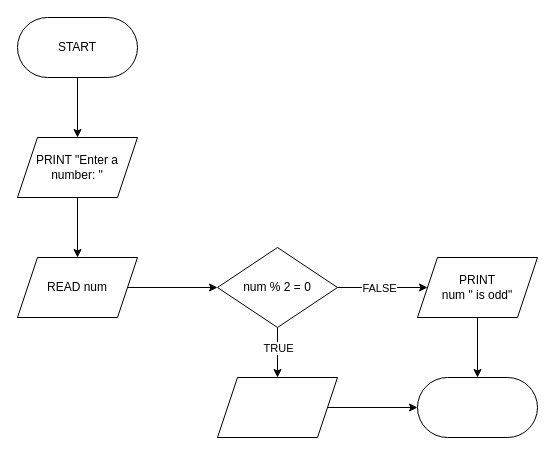
This 555x455 diagram has some shape labels left out. The box of each missing label's shape, as (x1, y1, x2, y2) in pixels:
END: (416, 376, 538, 438)
PRINT num " is even": (216, 376, 338, 438)
